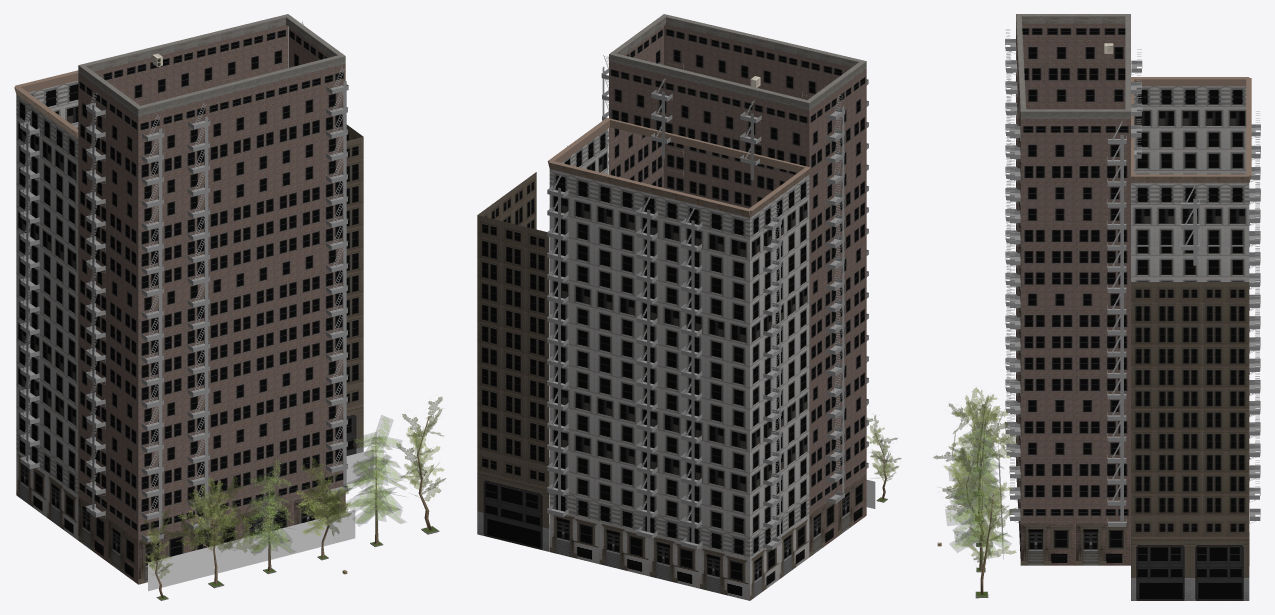
File: nycity_06.gltf
The picture shows the model from 3 angles, left to right: view 1: azimuth 30°, elevation 25°; view 2: azimuth 150°, elevation 25°; view 3: azimuth 270°, elevation 25°; orthographic projection. The views are drawn at different scales.
Visible parts, largest first — view 1: nycity_06; view 2: nycity_06; view 3: nycity_06.
Boxes of the visible parts, bbox=[...] form: nycity_06: bbox=[14, 14, 445, 600]; nycity_06: bbox=[477, 14, 901, 600]; nycity_06: bbox=[933, 14, 1260, 600].
Size of the model in its own units: 43.25 by 64.2 by 42.15.
Materials: 15 (13 with a texture image).
